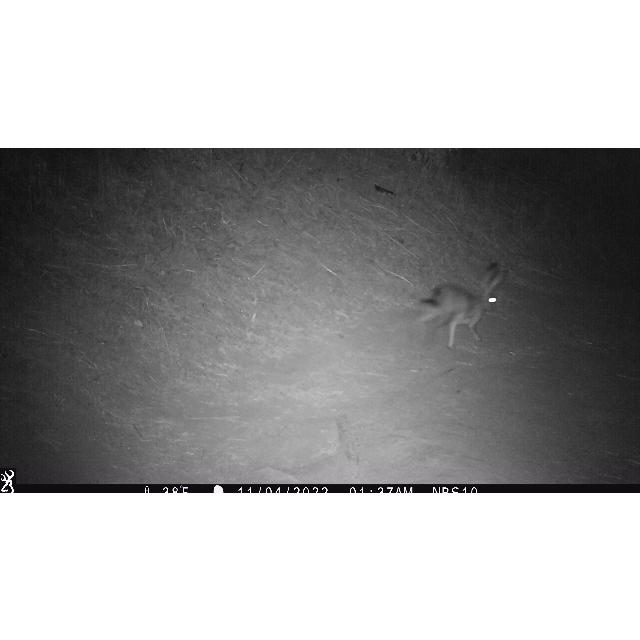animals: (414, 260, 506, 350)
